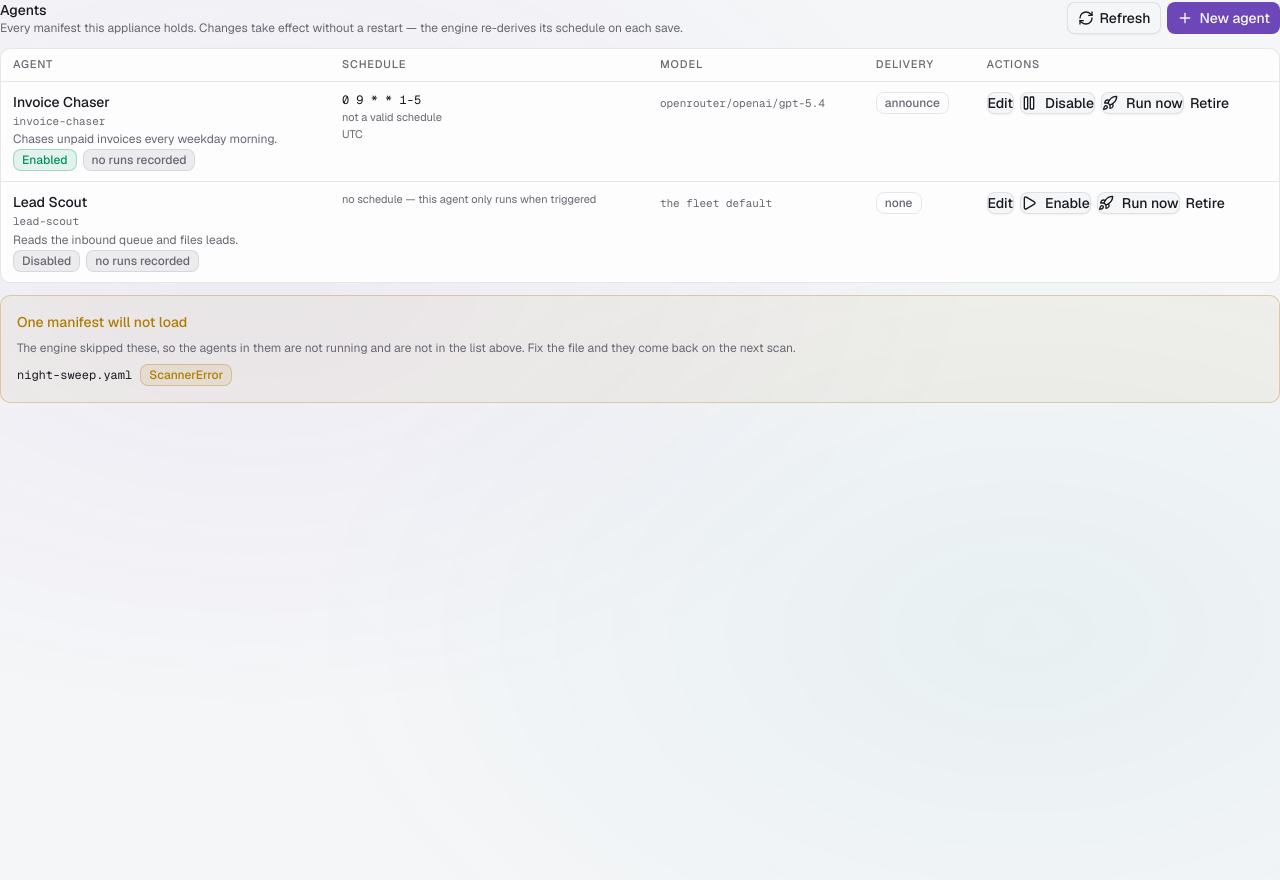
Test: AgentManifests — creating › lands a 422 verdict on the field its path names
This screenshot has width=1280, height=880.
Expected: the row with test id "agent-row-invoice-chaser" is shown, [1,81,1279,182]
Click the button with test id "agent-new": (1224, 18) [1167,2,1279,34]
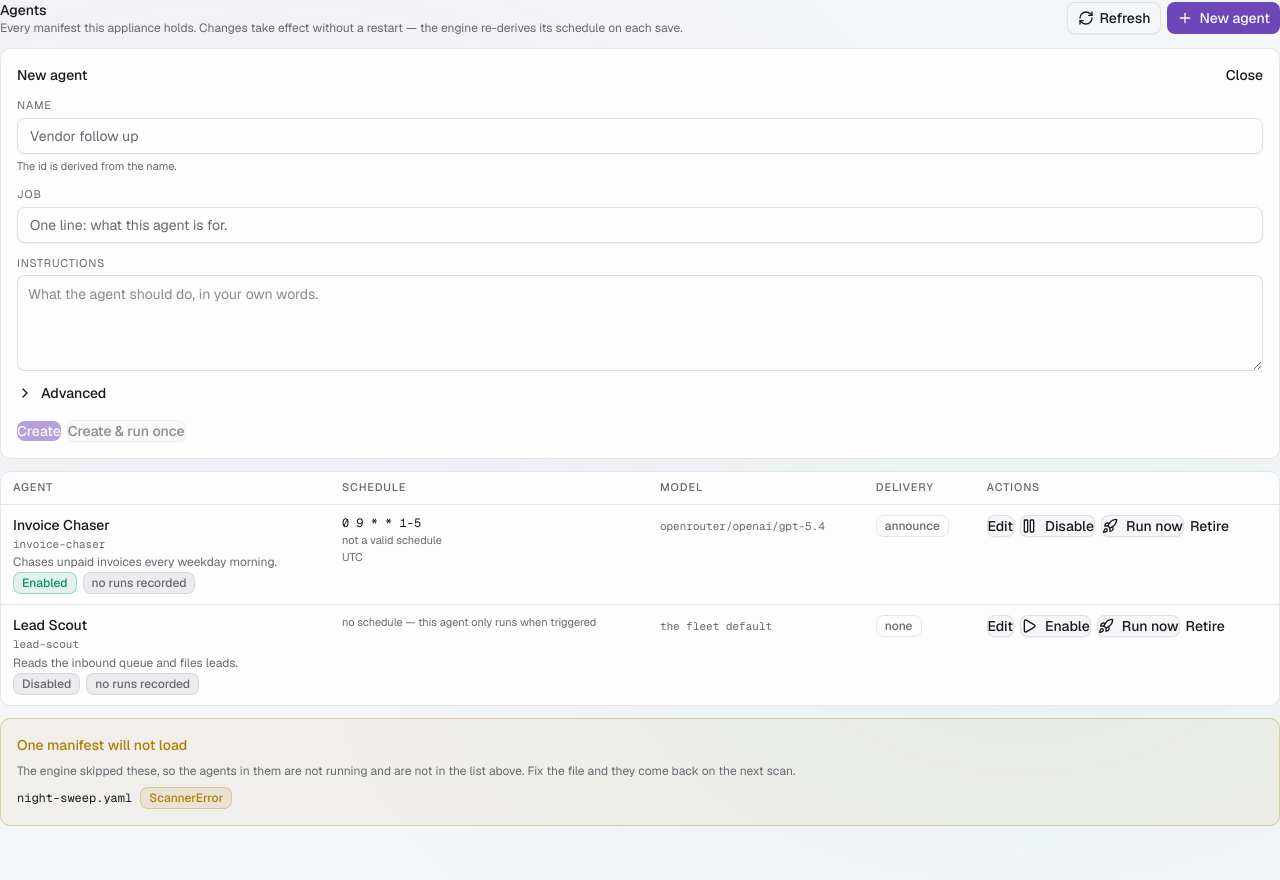
In the field with test id "agent-field-name": (640, 136) [17,118,1263,154], type "Vendor Follow Up"
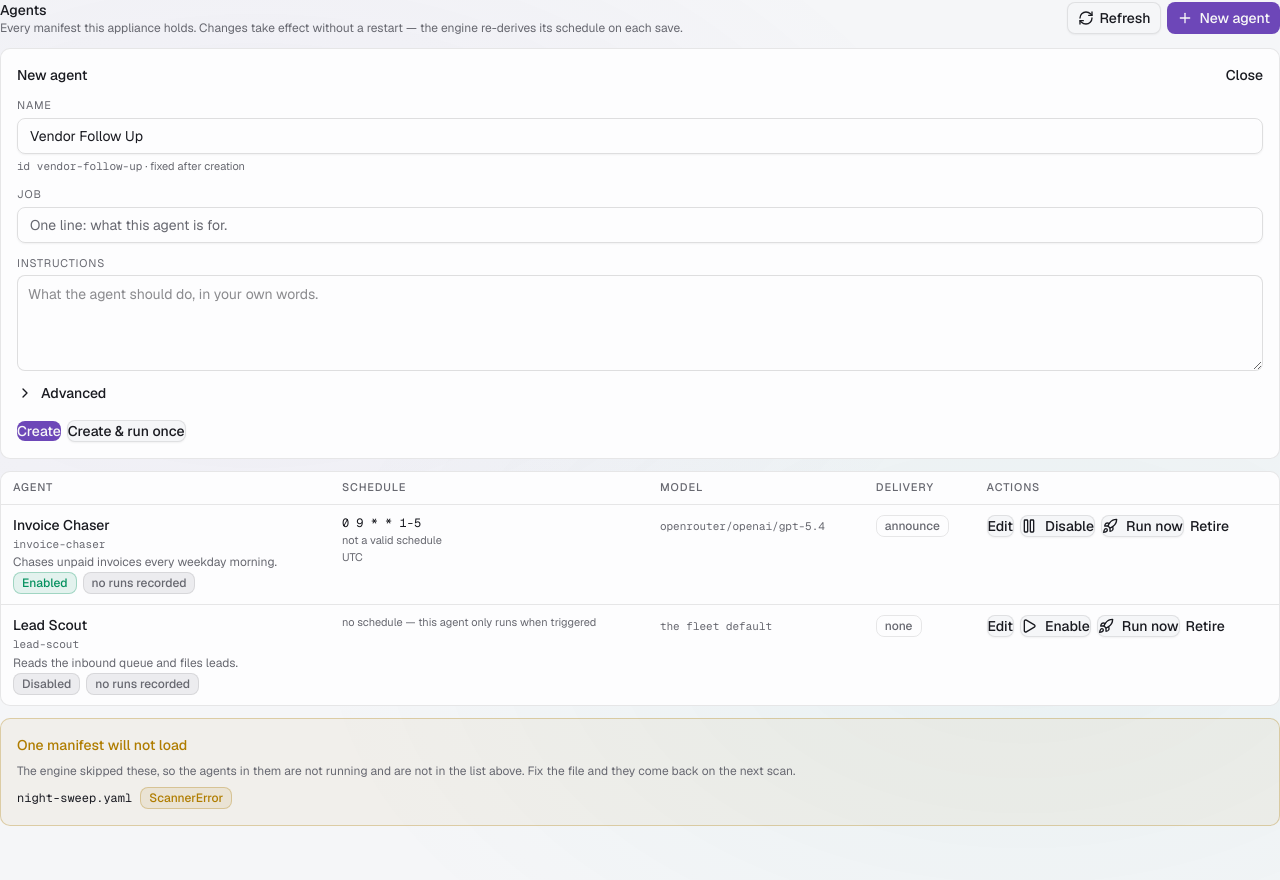
In the field with test id "agent-field-job": (640, 224) [17,206,1263,242], type "Chase vendors who have gone quiet."
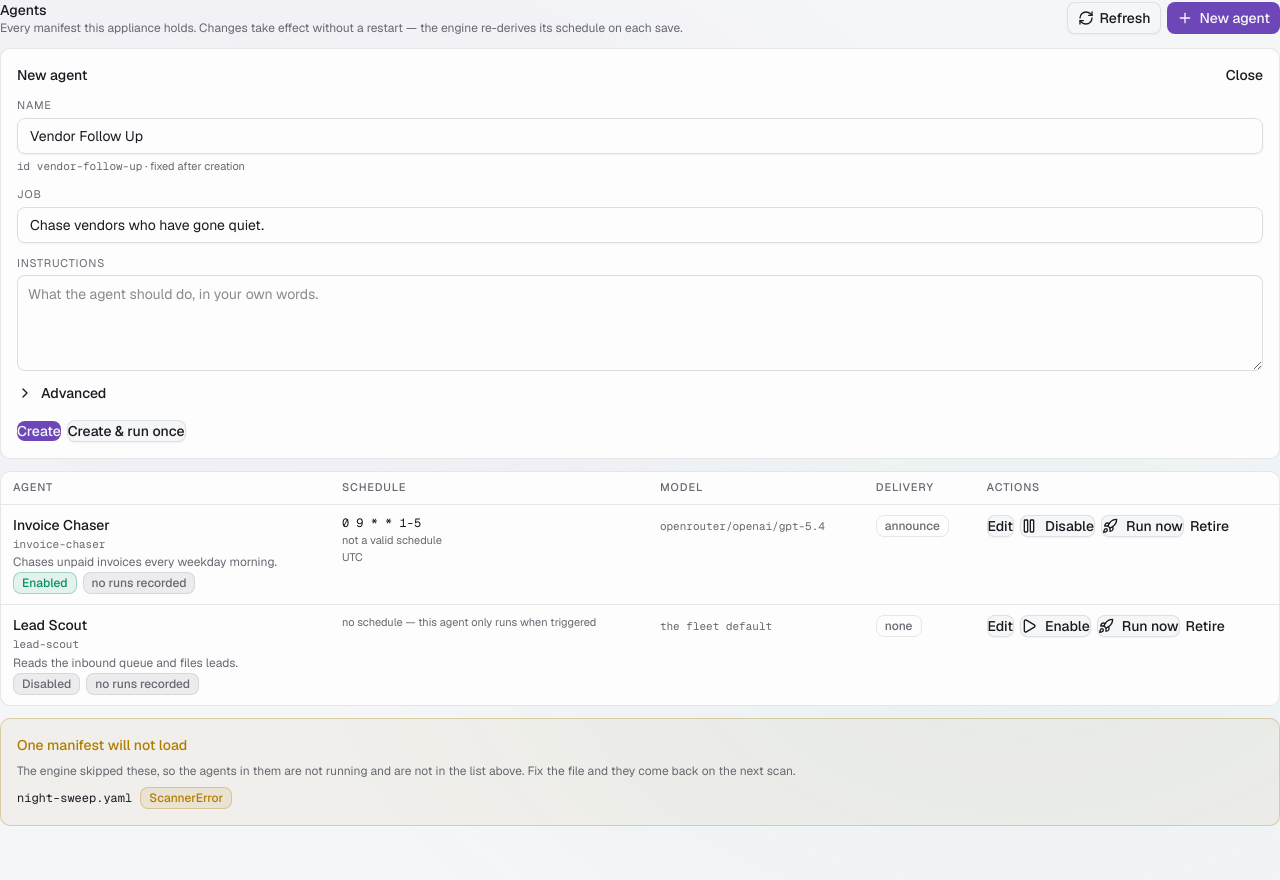
In the text box with test id "agent-field-instructions": (640, 323) [17,275,1263,371], type "Open the vendor list and write to anyone silent for a week."
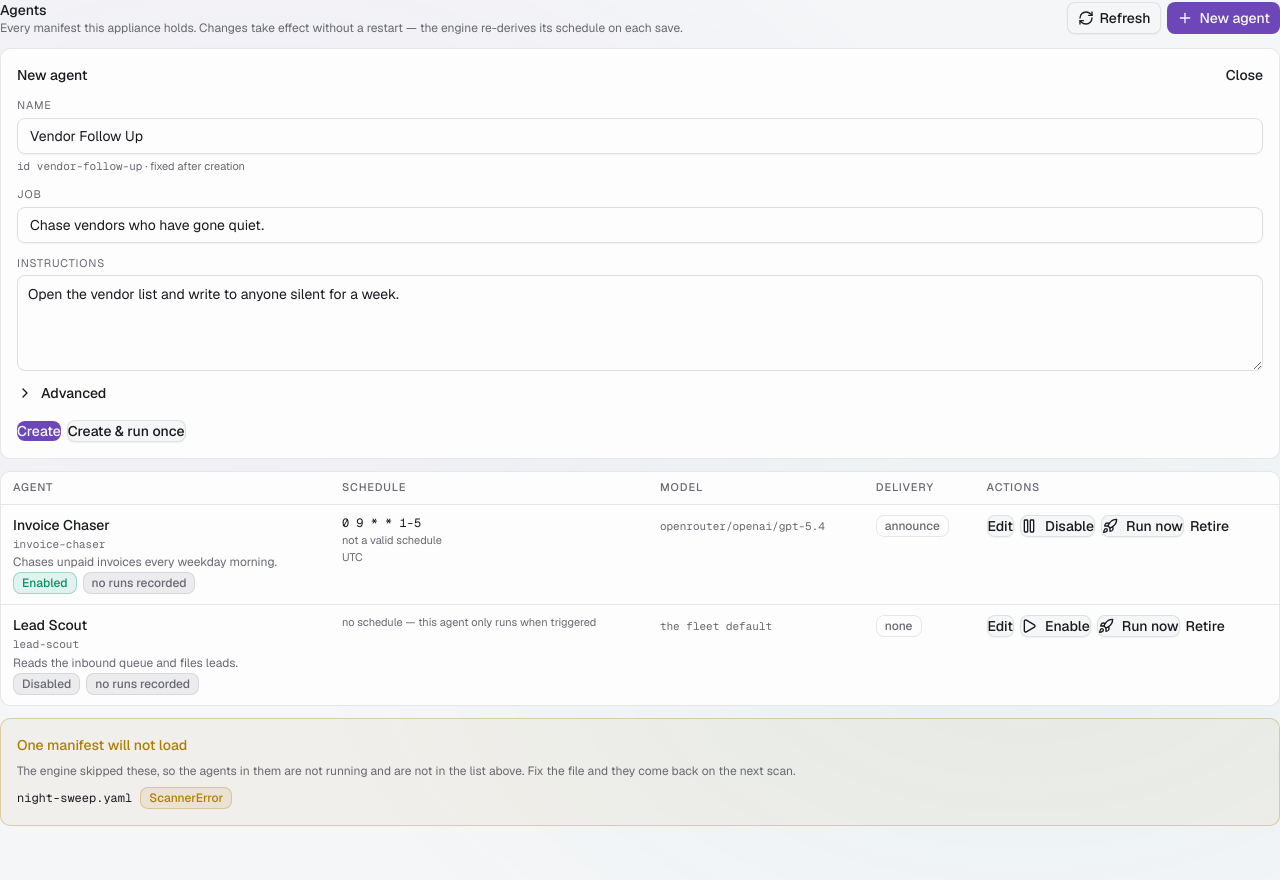
Click the button with test id "agent-create": (39, 431) [17,421,61,441]
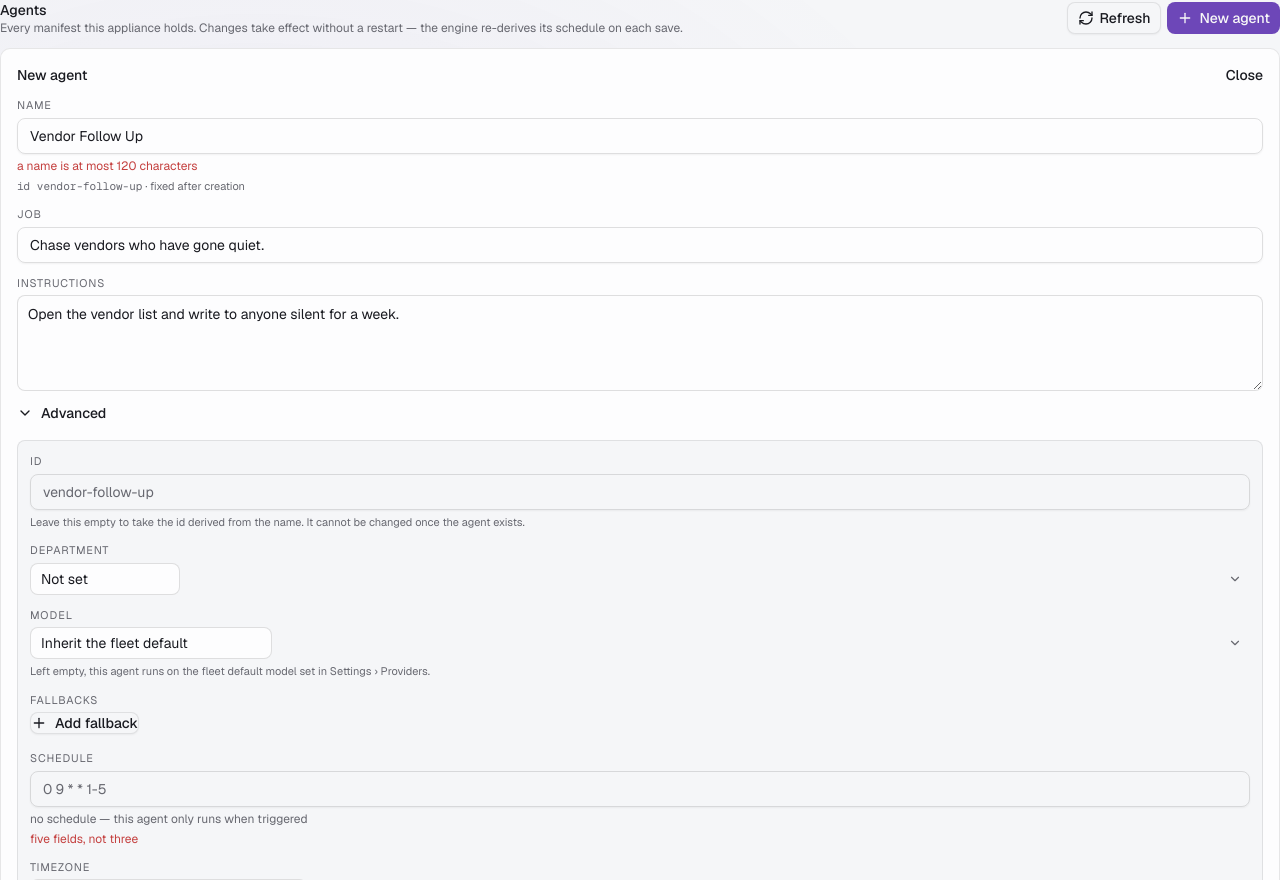
Expected: the text with test id "agent-error-cron" reads "five fields, not three", [30,830,138,846]
Expected: the text with test id "agent-error-name" shows "at most 120 characters", [17,158,198,174]
